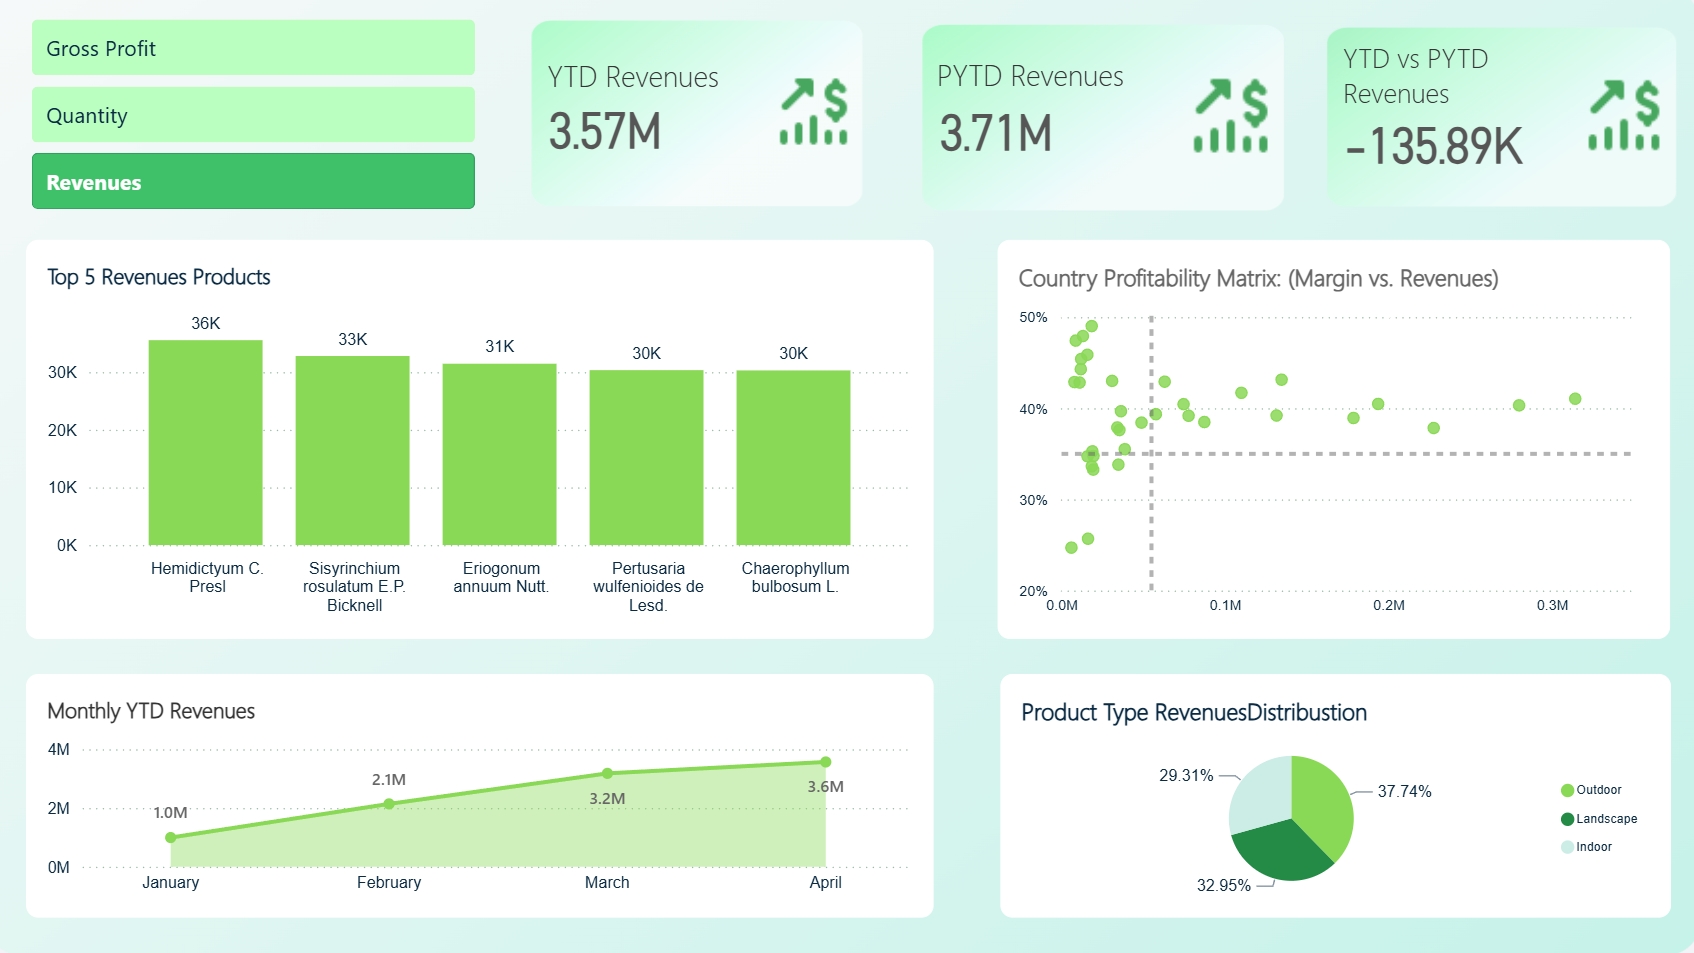

The dashboard page shown, as its layout file describes it:
{"tool":"powerbi","page":{"name":"Core Metrics Analysis","canvas":[1280,720],"ordinal":1},"visuals":[{"type":"image","box":[0,0,1279.5,720.5],"z":0},{"type":"advancedSlicerVisual","fields":{"Values":["Slicer_Values.Values"]},"box":[29,19.3,339.5,146.3],"z":1000},{"type":"cardVisual","fields":{"Data":["_Calculations.S_PYTD"]},"box":[694.9,22.6,277.4,145.8],"z":2000,"group":"g2"},{"type":"columnChart","fields":{"Category":["Dim_Product.Product_Name"],"Y":["_Calculations.S_YTD"]},"box":[29,186.3,677.7,298.1],"z":2000},{"type":"scatterChart","fields":{"X":["_Calculations.S_YTD"],"Y":["_Calculations.Gross Margin %"],"Category":["Accounts.country"]},"box":[755,186.3,502.4,298.1],"z":3000},{"type":"cardVisual","fields":{"Data":["_Calculations.S_YTD"]},"box":[403.3,19.8,254.8,145.8],"z":4000,"group":"g3"},{"type":"cardVisual","fields":{"Data":["_Calculations.YTD vs PYTD"]},"box":[997.8,25.5,267.5,140.1],"z":4000,"group":"g1"},{"type":"pieChart","fields":{"Category":["Dim_Product.Produt_Type"],"Y":["_Calculations.S_YTD"]},"box":[756.4,510.7,501,182.2],"z":4000},{"type":"areaChart","fields":{"Category":["Dim_Date.MonthName"],"Y":["_Calculations.S_YTD"]},"box":[29,510.7,677.7,182.2],"z":5000},{"type":"group","id":"g1","title":"Group 3","box":[997.8,25.5,267.5,140.1],"z":6000},{"type":"group","id":"g2","title":"Group 1","box":[694.2,22.6,278.1,145.8],"z":7000},{"type":"group","id":"g3","title":"Group 2","box":[403,19.8,255.1,145.8],"z":8000},{"type":"shape","box":[403,34.5,178,51.1],"z":8000,"group":"g3"},{"type":"shape","box":[694.2,33.1,191.9,51.1],"z":9004,"group":"g2"},{"type":"shape","box":[997.9,27.6,167,67.6],"z":9504,"group":"g1"}]}

Visuals, with their boxes in screenshot pixels (x1, y1, x2, y2), scaled from the page's 1280x720 canvas onto the 1694x953 screenshot:
image: l=0, t=0, r=1693, b=952
advancedSlicerVisual - Slicer_Values.Values: l=38, t=26, r=488, b=219
cardVisual - _Calculations.S_PYTD: l=920, t=30, r=1287, b=223
columnChart - Dim_Product.Product_Name x _Calculations.S_YTD: l=38, t=247, r=935, b=641
scatterChart - _Calculations.S_YTD x _Calculations.Gross Margin %: l=999, t=247, r=1664, b=641
cardVisual - _Calculations.S_YTD: l=534, t=26, r=871, b=219
cardVisual - _Calculations.YTD vs PYTD: l=1321, t=34, r=1675, b=219
pieChart - Dim_Product.Produt_Type x _Calculations.S_YTD: l=1001, t=676, r=1664, b=917
areaChart - Dim_Date.MonthName x _Calculations.S_YTD: l=38, t=676, r=935, b=917
"Group 3" group: l=1321, t=34, r=1675, b=219
"Group 1" group: l=919, t=30, r=1287, b=223
"Group 2" group: l=533, t=26, r=871, b=219
shape: l=533, t=46, r=769, b=113
shape: l=919, t=44, r=1173, b=111
shape: l=1321, t=37, r=1542, b=126
